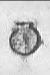W24: (5, 1, 46, 74)
